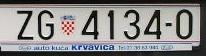-: (165, 22, 172, 26)
0: (176, 9, 192, 40)
1: (107, 10, 114, 39)
3: (124, 10, 140, 39)
4: (82, 10, 100, 40), (144, 10, 161, 39)
G: (38, 10, 54, 40)
Z: (16, 10, 34, 40)
